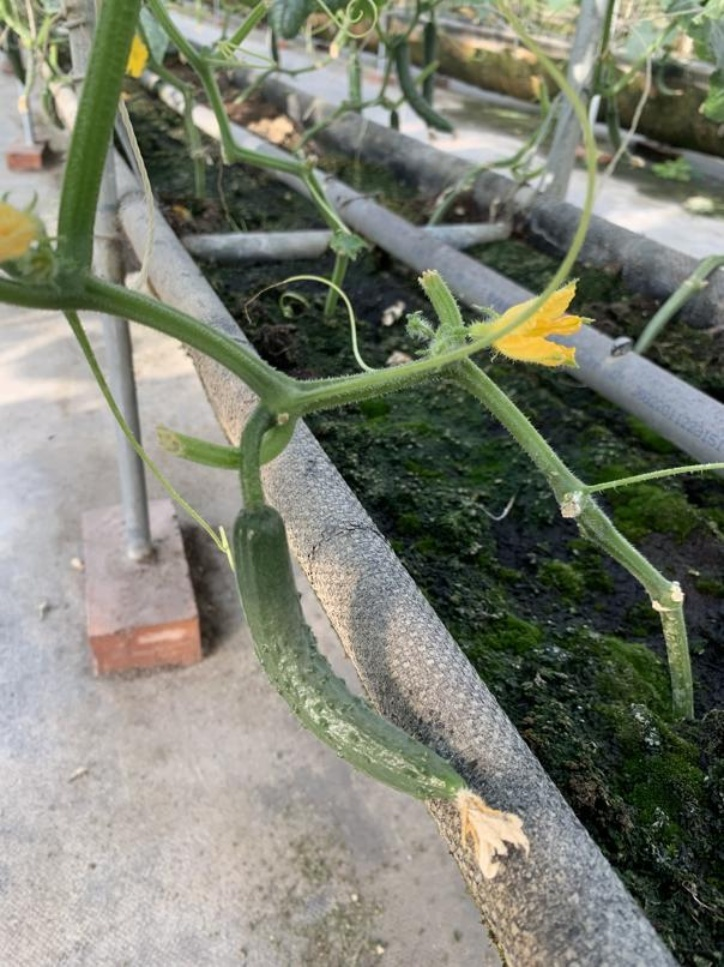bud: (481, 273, 584, 363)
growth: (219, 494, 531, 871)
